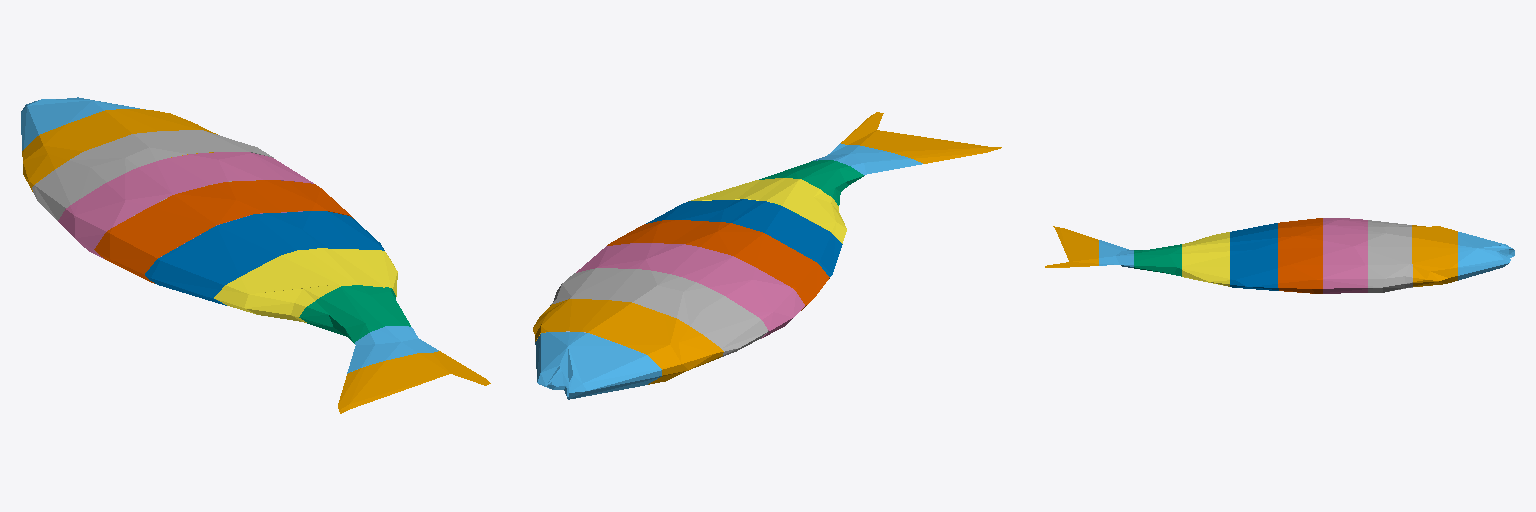
The robot description file, URDF, robot "fish":
<?xml version="1.0" ?>
<robot name="fish" xmlns:xacro="http://www.ros.org/wiki/xacro">
<!-- All links coordinates are initially all at origin O. Each of the fish model component is centered at its geometric center in Blender,
 and links are saved separately as stl. -->
  <link name="p1">
    <self_collide>0</self_collide>
    <inertial>
      <mass value="100"/>
      <inertia ixx="1.67E-03" ixy="0" ixz="0" iyy="0.02166" iyz="0" izz="0.02166"/>
      <origin xyz="0 0 0." />
    </inertial>
    <visual>
      <origin rpy="0 0 0" xyz="0 0 0"/>
      <geometry>
        <mesh filename="package://fine-fish-10/fish-01.stl"/>
      </geometry>
    </visual>
    <collision>
      <origin rpy="0 0 0" xyz="0 0 0"/>
      <geometry>
        <mesh filename="package://fine-fish-10/fish-01.stl"/>
      </geometry>
    </collision>
  </link>

  <!-- Displayed in utils function axiscreator. -->
  <joint name="joint1" type="revolute">
    <parent link="p1"/>
    <child link="p2"/>
    <!-- P1_O: The xyz below is the position of joint1 (P1) in O frame. -->
    <origin rpy="0 0 0" xyz="0 0.211 0"/> 
    <axis xyz="1 0 0"/>
    <limit effort="1000" lower="-.5" upper=".5" velocity="50"/>
    <dynamics damping="0.001" friction="0.001"/>
  </joint>

  <link name="p2">
    <self_collide>0</self_collide>
    <inertial>
      <mass value="100"/>
      <inertia ixx="1.67E-03" ixy="0" ixz="0" iyy="0.02166" iyz="0" izz="0.02166"/>
      <origin xyz="0 0 0." />
    </inertial>
    <visual>
      <!-- -P1_O : The xyz below is -P1_O, making link2 (p2) go back to the initially aligned position. -->
      <origin rpy="0 0 0" xyz="0.138 0.203 0.001"/>
      <geometry>
        <mesh filename="package://fine-fish-10/fish-02.stl"/>
      </geometry>
    </visual>
    <collision>
      <origin rpy="0 0 0" xyz="0.138 0.203 0.001"/>
      <geometry>
        <mesh filename="package://fine-fish-10/fish-02.stl"/>
      </geometry>
    </collision>
  </link>

  <joint name="joint2" type="revolute">
    <parent link="p2"/>
    <child link="p3"/>
    <origin rpy="0 0 0" xyz="0 0.354 0"/> 
    <axis xyz="1 0 0"/>
    <limit effort="1000" lower="-.4" upper=".4" velocity="50"/>
    <dynamics damping="0.001" friction="0.001"/>
  </joint>

  <link name="p3">
    <self_collide>0</self_collide>
    <inertial>
      <mass value="100"/>
      <inertia ixx="1.67E-03" ixy="0" ixz="0" iyy="0.02166" iyz="0" izz="0.02166"/>
      <origin xyz="0 0 0." />
    </inertial>
    <visual>
      <origin rpy="0 0 0" xyz="0.216 0.288 0.004"/>
      <geometry>
        <mesh filename="package://fine-fish-10/fish-03.stl"/>
      </geometry>
    </visual>
    <collision>
      <origin rpy="0 0 0" xyz="0.216 0.288 0.004"/>
      <geometry>
        <mesh filename="package://fine-fish-10/fish-03.stl"/>
      </geometry>
    </collision>
  </link>

  <joint name="joint3" type="revolute">
    <parent link="p3"/>
    <child link="p4"/>
    <origin rpy="0 0 0" xyz="0 0.494 0"/> 
    <axis xyz="1 0 0"/>
    <limit effort="1000" lower="-.3" upper=".3" velocity="50"/>
    <dynamics damping="0.001" friction="0.001"/>
  </joint>

  <link name="p4">
    <self_collide>0</self_collide>
    <inertial>
      <mass value="100"/>
      <inertia ixx="1.67E-03" ixy="0" ixz="0" iyy="0.02166" iyz="0" izz="0.02166"/>
      <origin xyz="0 0 0." />
    </inertial>
    <visual>
      <origin rpy="0 0 0" xyz="0.195 0.231 0"/>
      <geometry>
        <mesh filename="package://fine-fish-10/fish-04.stl"/>
      </geometry>
    </visual>
    <collision>
      <origin rpy="0 0 0" xyz="0.195 0.231 0.002"/>
      <geometry>
        <mesh filename="package://fine-fish-10/fish-04.stl"/>
      </geometry>
    </collision>
  </link>

  <joint name="joint4" type="revolute">
    <parent link="p4"/>
    <child link="p5"/>
    <origin rpy="0 0 0" xyz="0 0.494 0"/> 
    <axis xyz="1 0 0"/>
    <limit effort="1000" lower="-.25" upper=".25" velocity="50"/>
    <dynamics damping="0.001" friction="0.001"/>
  </joint>

  <link name="p5">
    <self_collide>0</self_collide>
    <inertial>
      <mass value="100"/>
      <inertia ixx="1.67E-03" ixy="0" ixz="0" iyy="0.02166" iyz="0" izz="0.02166"/>
      <origin xyz="0 0 0." />
    </inertial>
    <visual>
      <origin rpy="0 0 0" xyz="0.200 0.268 0"/>
      <geometry>
        <mesh filename="package://fine-fish-10/fish-05.stl"/>
      </geometry>
    </visual>
    <collision>
      <origin rpy="0 0 0" xyz="0.200 0.268 0"/>
      <geometry>
        <mesh filename="package://fine-fish-10/fish-05.stl"/>
      </geometry>
    </collision>
  </link>

  <joint name="joint5" type="revolute">
    <parent link="p5"/>
    <child link="p6"/>
    <origin rpy="0 0 0" xyz="0 0.494 0"/> 
    <axis xyz="1 0 0"/>
    <limit effort="1000" lower="-.25" upper=".25" velocity="50"/>
    <dynamics damping="0.001" friction="0.001"/>
  </joint>

  <link name="p6">
    <self_collide>0</self_collide>
    <inertial>
      <mass value="100"/>
      <inertia ixx="1.67E-03" ixy="0" ixz="0" iyy="0.02166" iyz="0" izz="0.02166"/>
      <origin xyz="0 0 0." />
    </inertial>
    <visual>
      <origin rpy="0 0 0" xyz="0.169 0.228 -0.007"/>
      <geometry>
        <mesh filename="package://fine-fish-10/fish-06.stl"/>
      </geometry>
    </visual>
    <collision>
      <origin rpy="0 0 0" xyz="0.169 0.228 -0.007"/>
      <geometry>
        <mesh filename="package://fine-fish-10/fish-06.stl"/>
      </geometry>
    </collision>
  </link>

  <joint name="joint6" type="revolute">
    <parent link="p6"/>
    <child link="p7"/>
    <origin rpy="0 0 0" xyz="0 0.457 0"/> 
    <axis xyz="1 0 0"/>
    <limit effort="1000" lower="-.2" upper=".2" velocity="50"/>
    <dynamics damping="0.001" friction="0.001"/>
  </joint>

  <link name="p7">
    <self_collide>0</self_collide>
    <inertial>
      <mass value="100"/>
      <inertia ixx="1.67E-03" ixy="0" ixz="0" iyy="0.02166" iyz="0" izz="0.02166"/>
      <origin xyz="0 0 0." />
    </inertial>
    <visual>
      <origin rpy="0 0 0" xyz="0.083 0.220 0"/>
      <geometry>
        <mesh filename="package://fine-fish-10/fish-07.stl"/>
      </geometry>
    </visual>
    <collision>
      <origin rpy="0 0 0" xyz="0.083 0.220 0"/>
      <geometry>
        <mesh filename="package://fine-fish-10/fish-07.stl"/>
      </geometry>
    </collision>
  </link>

  <joint name="joint7" type="revolute">
    <parent link="p7"/>
    <child link="p8"/>
    <origin rpy="0 0 0" xyz="0 0.457 0"/> 
    <axis xyz="1 0 0"/>
    <limit effort="1000" lower="-.2" upper=".2" velocity="50"/>
    <dynamics damping="0.001" friction="0.001"/>
  </joint>

  <link name="p8">
    <self_collide>0</self_collide>
    <inertial>
      <mass value="100"/>
      <inertia ixx="1.67E-03" ixy="0" ixz="0" iyy="0.02166" iyz="0" izz="0.02166"/>
      <origin xyz="0 0 0." />
    </inertial>
    <visual>
      <origin rpy="0 0 0" xyz="0.171 0.220 0"/>
      <geometry>
        <mesh filename="package://fine-fish-10/fish-08.stl"/>
      </geometry>
    </visual>
    <collision>
      <origin rpy="0 0 0" xyz="0.171 0.220 0"/>
      <geometry>
        <mesh filename="package://fine-fish-10/fish-08.stl"/>
      </geometry>
    </collision>
  </link>

  <joint name="joint8" type="revolute">
    <parent link="p8"/>
    <child link="p9"/>
    <origin rpy="0 0 0" xyz="0 0.457 0"/> 
    <axis xyz="1 0 0"/>
    <limit effort="1000" lower="-.15" upper=".15" velocity="50"/>
    <dynamics damping="0.001" friction="0.001"/>
  </joint>

  <link name="p9">
    <self_collide>0</self_collide>
    <inertial>
      <mass value="100"/>
      <inertia ixx="1.67E-03" ixy="0" ixz="0" iyy="0.02166" iyz="0" izz="0.02166"/>
      <origin xyz="0 0 0." />
    </inertial>
    <visual>
      <origin rpy="0 0 0" xyz="0.126 0.205 -0.012"/>
      <geometry>
        <mesh filename="package://fine-fish-10/fish-09.stl"/>
      </geometry>
    </visual>
    <collision>
      <origin rpy="0 0 0" xyz="0.126 0.205 -0.012"/>
      <geometry>
        <mesh filename="package://fine-fish-10/fish-09.stl"/>
      </geometry>
    </collision>
  </link>

  <joint name="joint9" type="revolute">
    <parent link="p9"/>
    <child link="p10"/>
    <origin rpy="0 0 0" xyz="0 0.457 0"/> 
    <axis xyz="1 0 0"/>
    <limit effort="1000" lower="-.1" upper=".1" velocity="50"/>
    <dynamics damping="0.001" friction="0.001"/>
  </joint>

  <link name="p10">
    <self_collide>0</self_collide>
    <inertial>
      <mass value="100"/>
      <inertia ixx="1.67E-03" ixy="0" ixz="0" iyy="0.02166" iyz="0" izz="0.02166"/>
      <origin xyz="0 0 0." />
    </inertial>
    <visual>
      <origin rpy="0 0 0" xyz="0.129 0.232 -0.015"/>
      <geometry>
        <mesh filename="package://fine-fish-10/fish-10.stl"/>
      </geometry>
    </visual>
    <collision>
      <origin rpy="0 0 0" xyz="0.129 0.232 -0.015"/>
      <geometry>
        <mesh filename="package://fine-fish-10/fish-10.stl"/>
      </geometry>
    </collision>
  </link>

</robot>

--- What the picture shows (computed from the rendered views, not written in the file) ---
Views: 3 orthographic renders of the robot side by side, from view 1: azimuth 30°, elevation 25°; view 2: azimuth 150°, elevation 25°; view 3: azimuth 270°, elevation 25°.
Model fish with 10 links and 9 joints (9 revolute), rooted at p1, posed every joint at zero.
Links seen in each view (by area): view 1: p5, p6, p7, p4, p8, p9, p1, p3, p10, p2; view 2: p8, p7, p9, p10, p6, p5, p4, p1, p3, p2; view 3: p7, p6, p8, p5, p9, p4, p10, p1, p3, p2.
Boxes of the visible links, box(x1,y1,x2,y2) form: p5: box(145, 211, 384, 305); p6: box(94, 180, 353, 283); p7: box(58, 152, 313, 258); p4: box(214, 248, 397, 322); p8: box(32, 130, 273, 220); p9: box(22, 109, 217, 191); p1: box(338, 351, 490, 413); p3: box(299, 285, 410, 343); p10: box(21, 97, 145, 159); p2: box(347, 326, 438, 373); p8: box(550, 268, 768, 357); p7: box(576, 243, 804, 338); p9: box(533, 299, 723, 384); p10: box(535, 332, 661, 399); p6: box(607, 220, 829, 310); p5: box(646, 199, 842, 278); p4: box(688, 178, 846, 243); p1: box(841, 112, 1001, 163); p3: box(759, 160, 863, 214); p2: box(813, 143, 922, 175); p7: box(1323, 218, 1367, 293); p6: box(1278, 218, 1322, 293); p8: box(1368, 220, 1412, 292); p5: box(1230, 223, 1278, 290); p9: box(1412, 225, 1457, 286); p4: box(1182, 232, 1229, 286); p10: box(1458, 232, 1514, 280); p1: box(1045, 226, 1098, 267); p3: box(1134, 244, 1181, 276); p2: box(1099, 240, 1133, 267).
Size in the robot's own frame: 1.59 by 4.8 by 0.4921 metres.
Meshes: 10 distinct files referenced, 10 mesh visuals loaded (10 binary STL).
